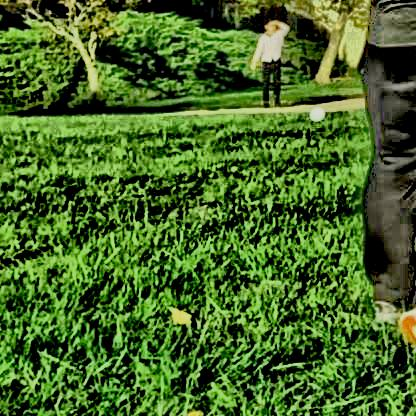golfball: (305, 104, 322, 119)
